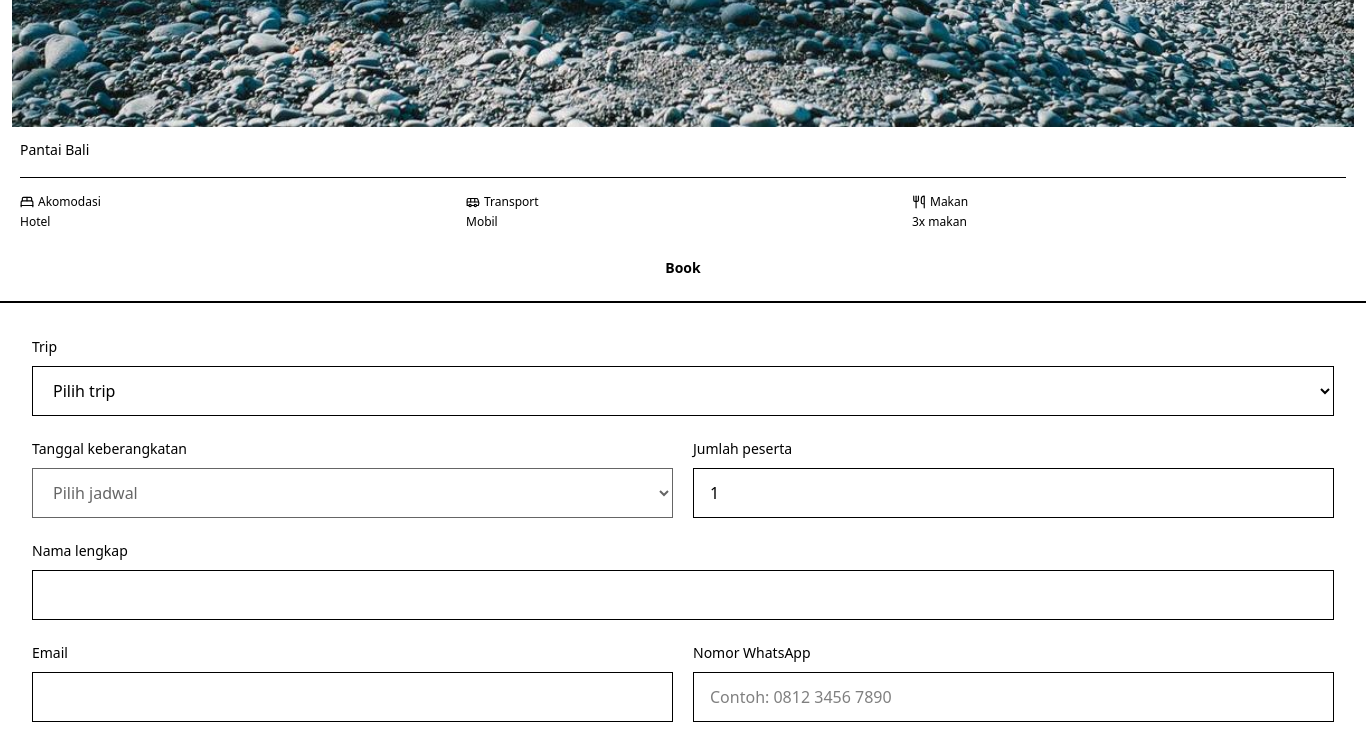
Scenario: BookingForm › shows server field errors next to their field and keeps the input
(page scrolled)
Select "Nusa Penida — Rp 2.500.000" in the dropdown labelled "Trip": (683, 391) [32,366,1334,416]
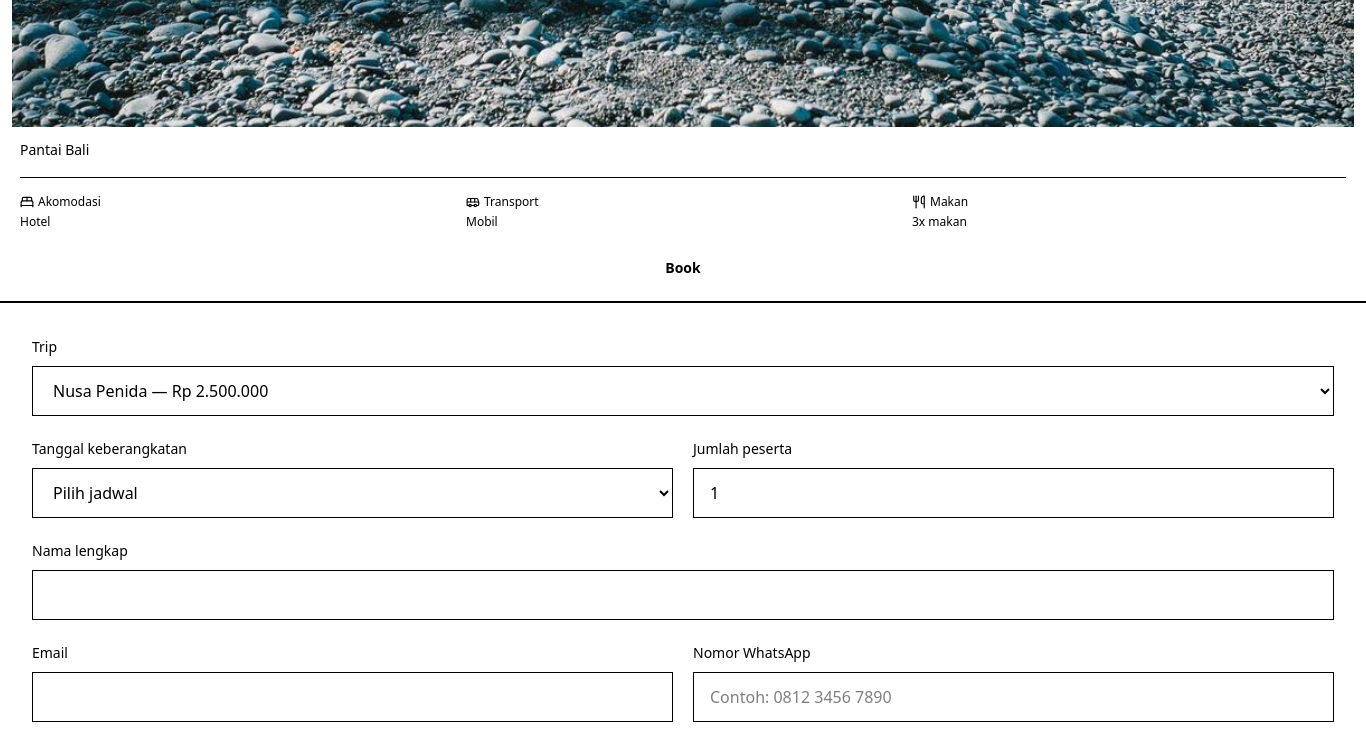
Select "5 Des 2026 · 3 slot" in the dropdown labelled "Tanggal keberangkatan": (352, 493) [32,468,673,518]
Replace the text in the number field labelled "Jumlah peserta" with "2": (1014, 493) [693,468,1334,518]
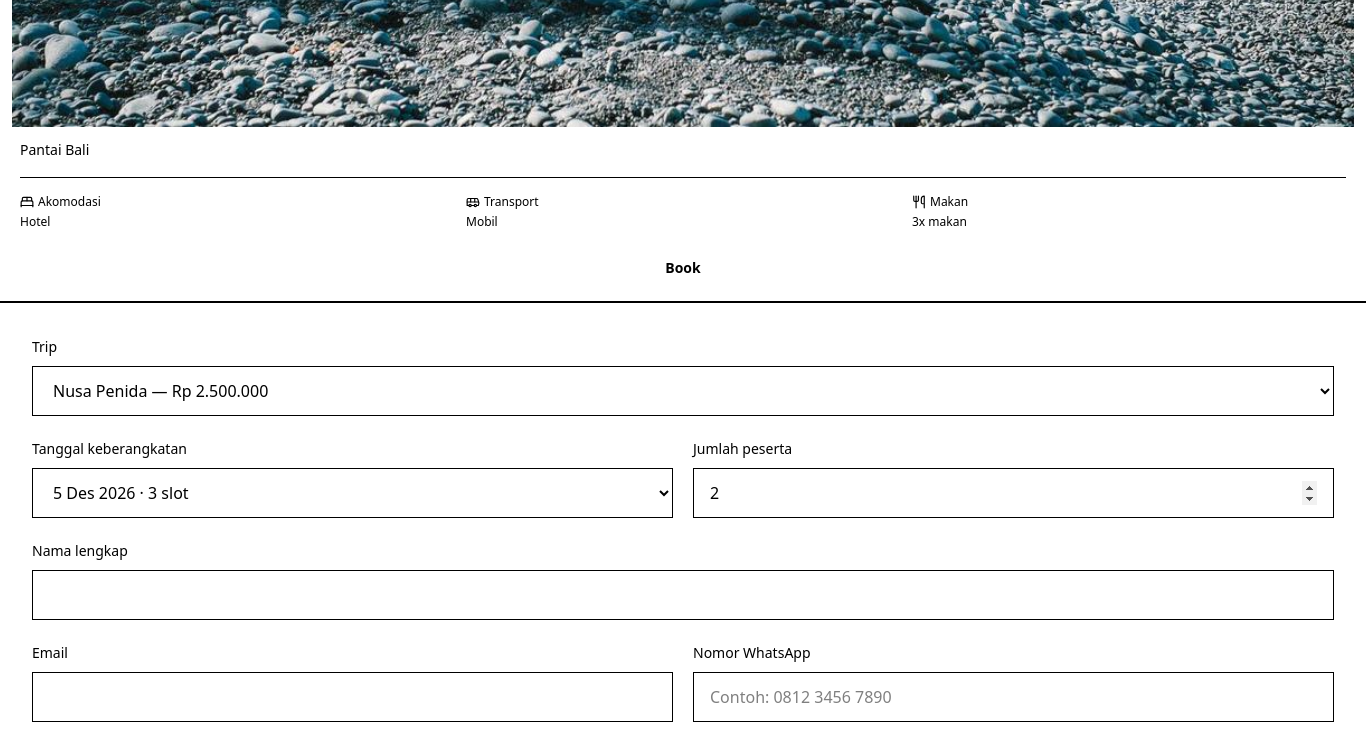
In the field labelled "Nama lengkap": (683, 595) [32,570,1334,620], type "Rani Putri"
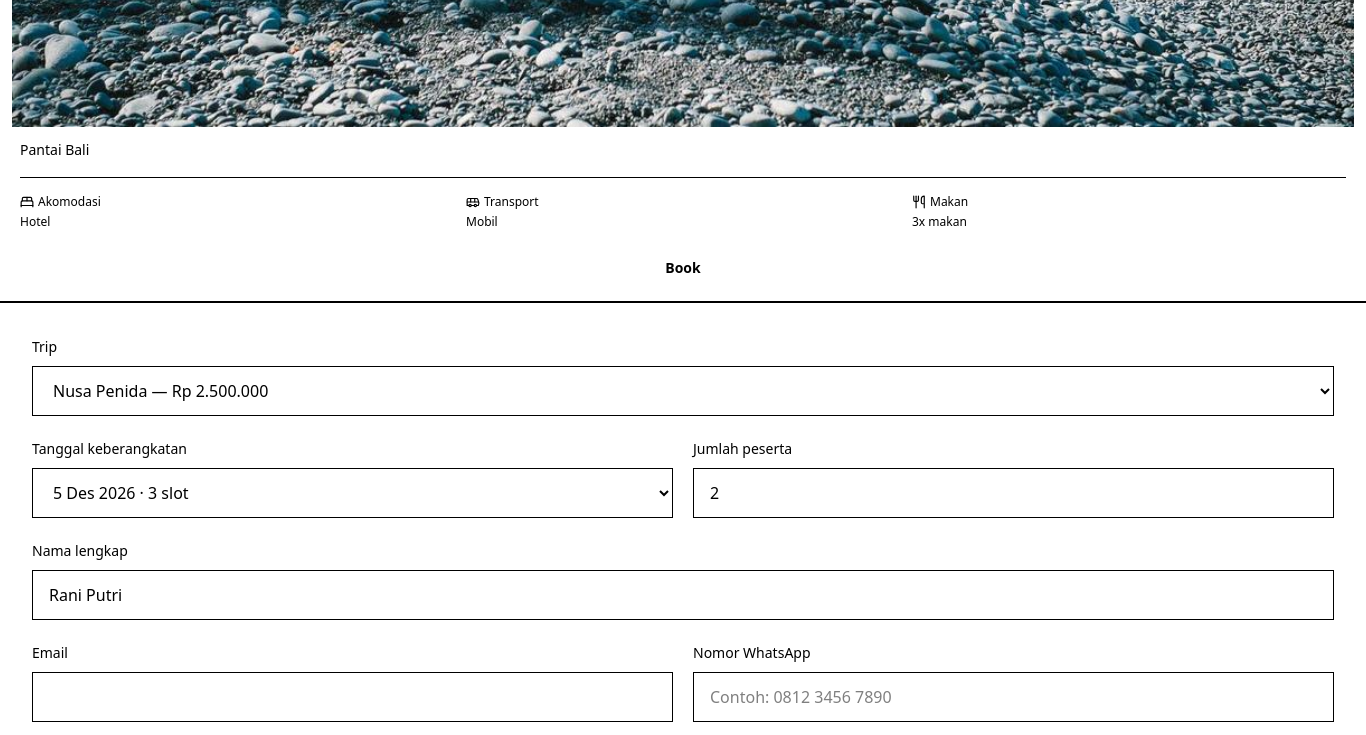
In the field labelled "Email": (352, 697) [32,672,673,722], type "rani@example.com"
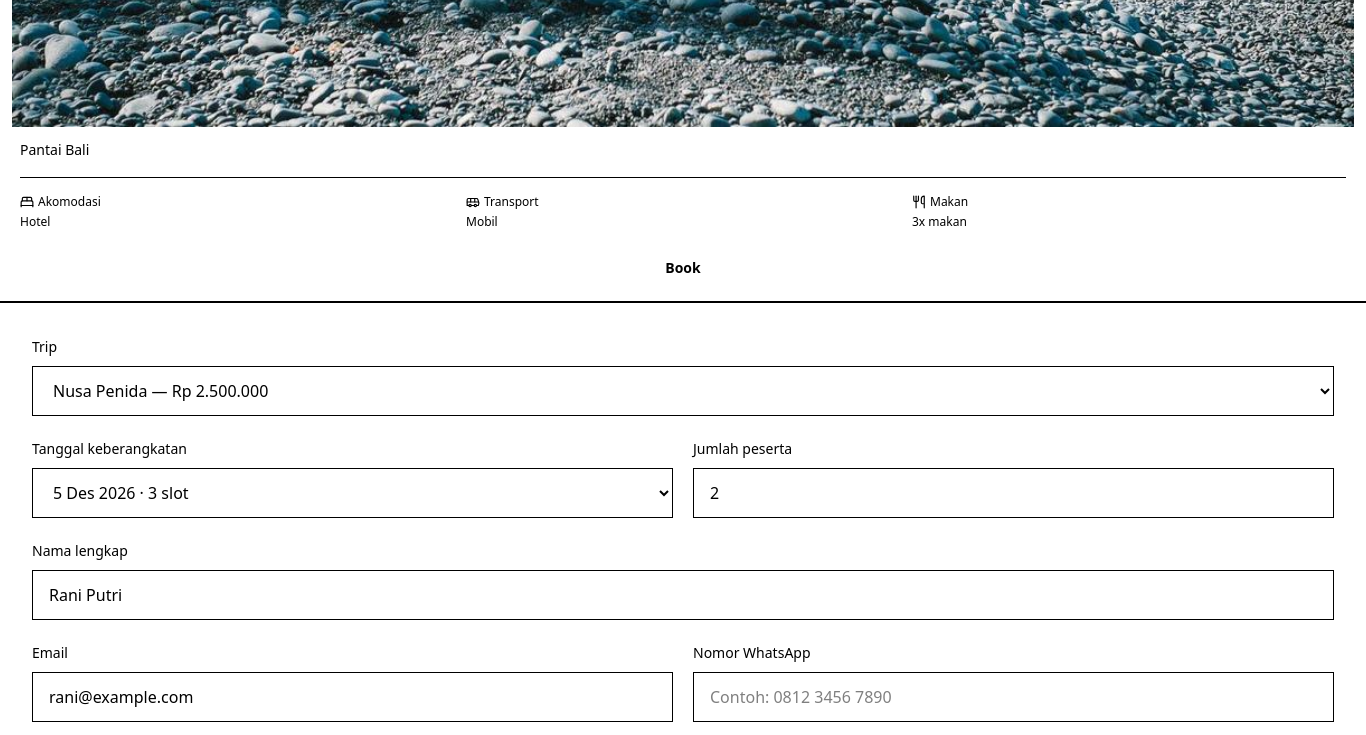
In the field labelled "Nomor WhatsApp": (1014, 697) [693,672,1334,722], type "081234567890"
(page scrolled)
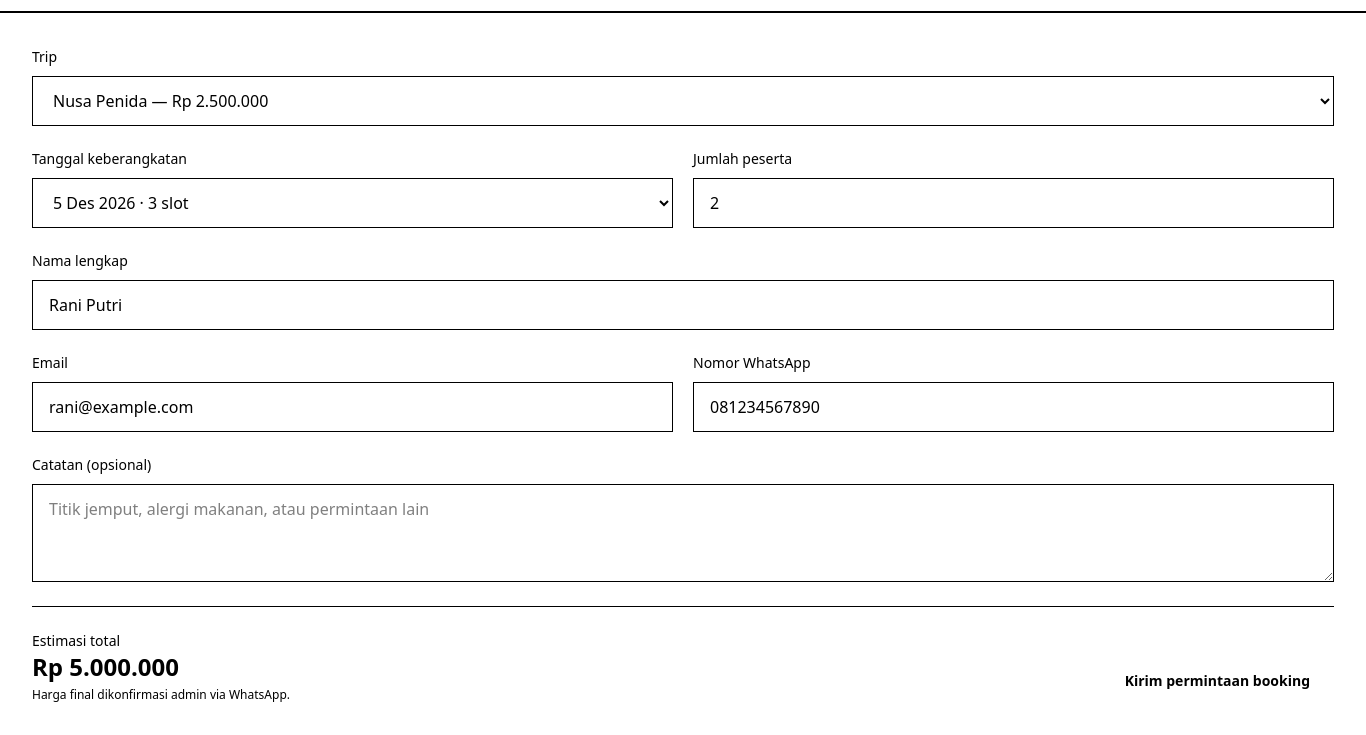
Click the button "Kirim permintaan booking": (1217, 681) [1101,659,1334,703]
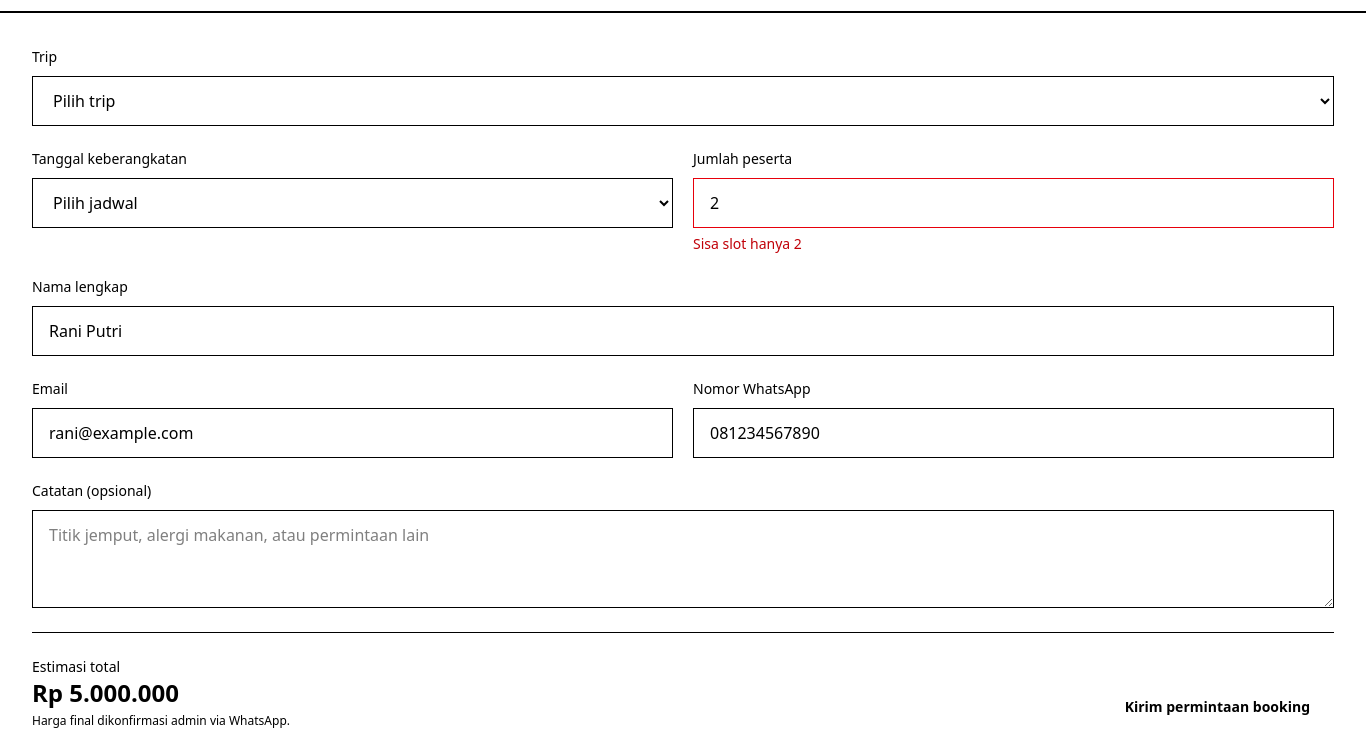
Expected: the text "Sisa slot hanya 2" is shown, [693,234,802,253]
